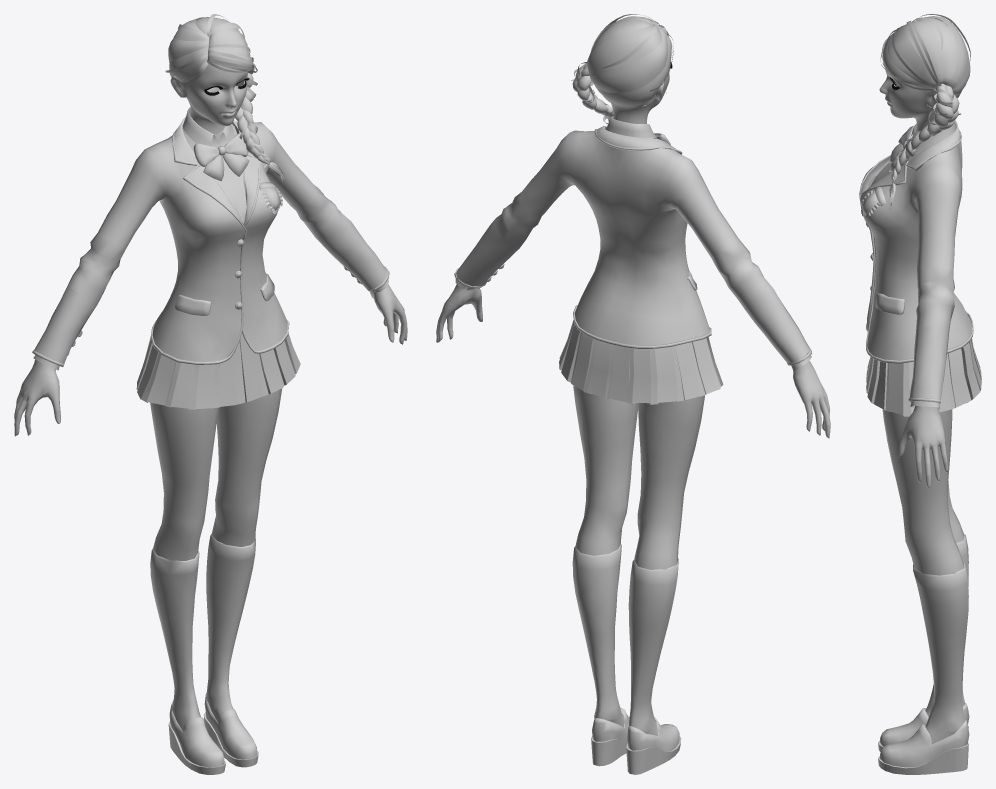
Rendered from keai.dae.
3 views of the same model, side by side, from view 1: azimuth 30°, elevation 25°; view 2: azimuth 150°, elevation 25°; view 3: azimuth 270°, elevation 25° (orthographic).
Parts seen in each view (by area): view 1: zhifu, luomo, flower, lian; view 2: zhifu, luomo, flower, lian; view 3: zhifu, luomo, flower, lian.
Part boxes in pixels (box(x1,y1,x2,y2)): zhifu: box(32, 107, 389, 774); luomo: box(14, 126, 407, 560); flower: box(165, 14, 284, 181); lian: box(170, 41, 247, 133); zhifu: box(454, 116, 811, 774); luomo: box(436, 284, 830, 569); flower: box(571, 14, 673, 124); lian: box(611, 63, 670, 123); zhifu: box(859, 120, 981, 774); luomo: box(882, 406, 964, 575); flower: box(880, 14, 970, 208); lian: box(879, 69, 937, 131).
Bounding box in the file's own units: 0.9249 × 1.66 × 0.2492.
